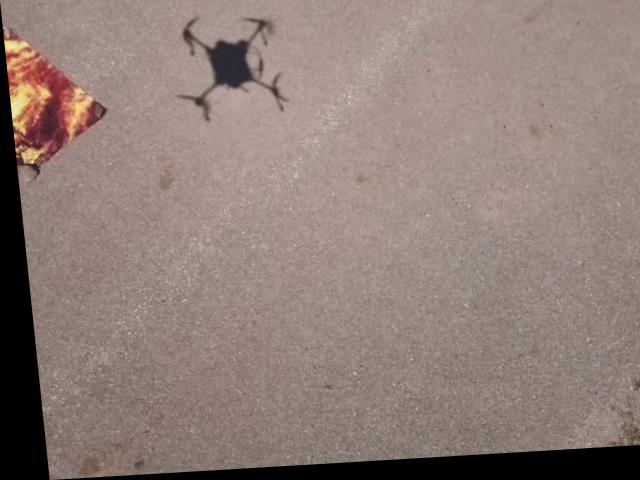fire-poster: (2, 19, 111, 185)
